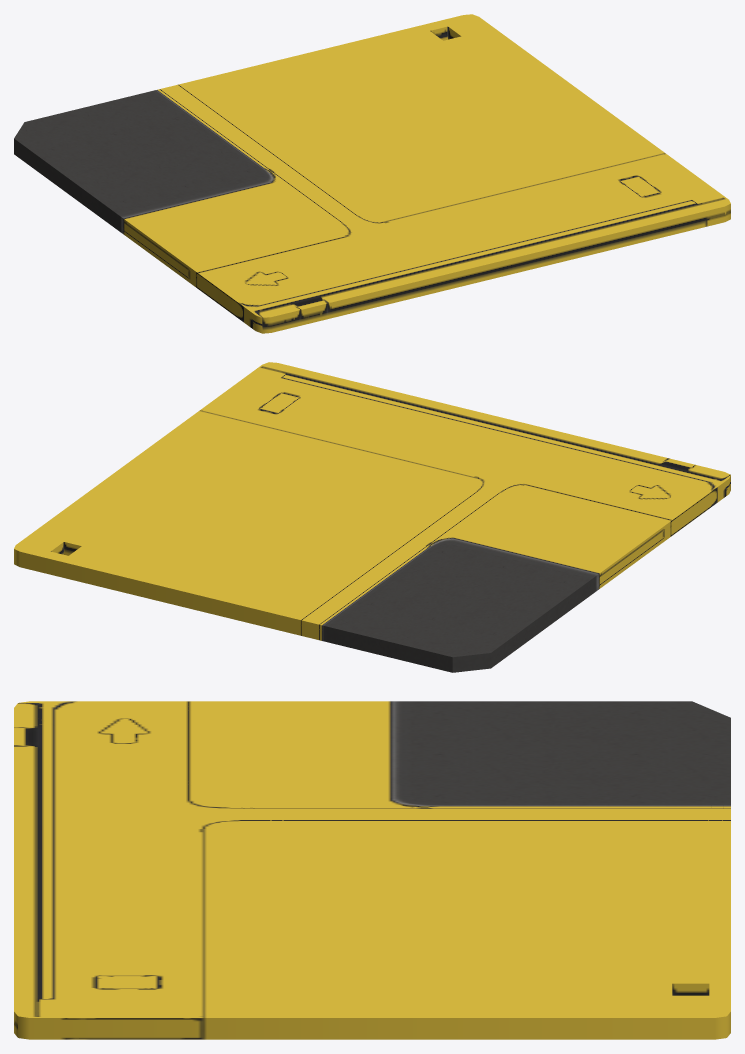
The model's file is floppy_yellow.glb.
3 renders of one model, top to bottom at view 1: azimuth 30°, elevation 25°; view 2: azimuth 150°, elevation 25°; view 3: azimuth 270°, elevation 25°, orthographic. The views are drawn at different scales.
Visible parts, largest first — view 1: disk1; view 2: disk1; view 3: disk1.
Boxes of the visible parts, box(x1,y1,x2,y2) form: disk1: box(14, 14, 730, 333); disk1: box(14, 362, 730, 672); disk1: box(14, 701, 730, 1039).
Bounding box in the file's own units: 3.7 × 0.1181 × 3.54.
1 material, 1 textured.
